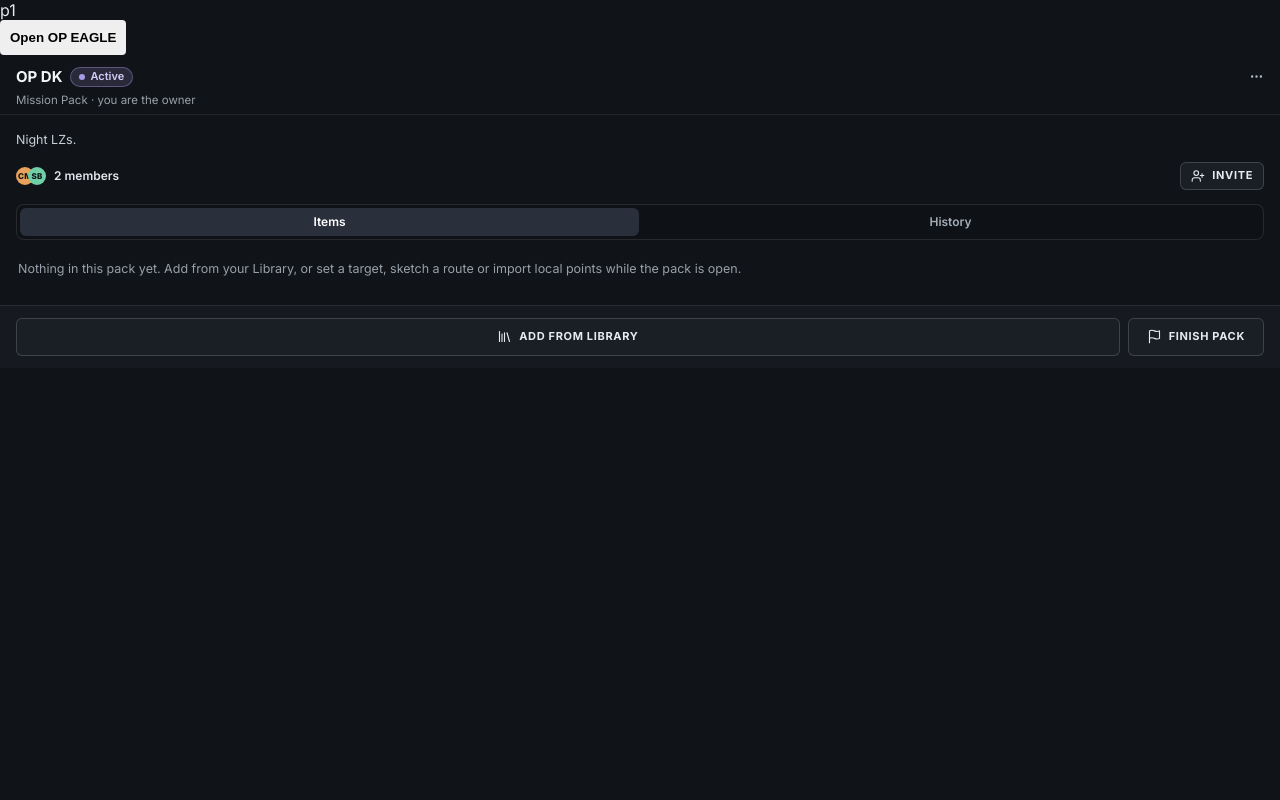
Scenario: leaving the pack › tells the owner to hand it over first, and opens Members to do it
Click the button named "More actions for OP DK" at (1256, 76), box x1=1242 y1=62 x2=1270 y2=90
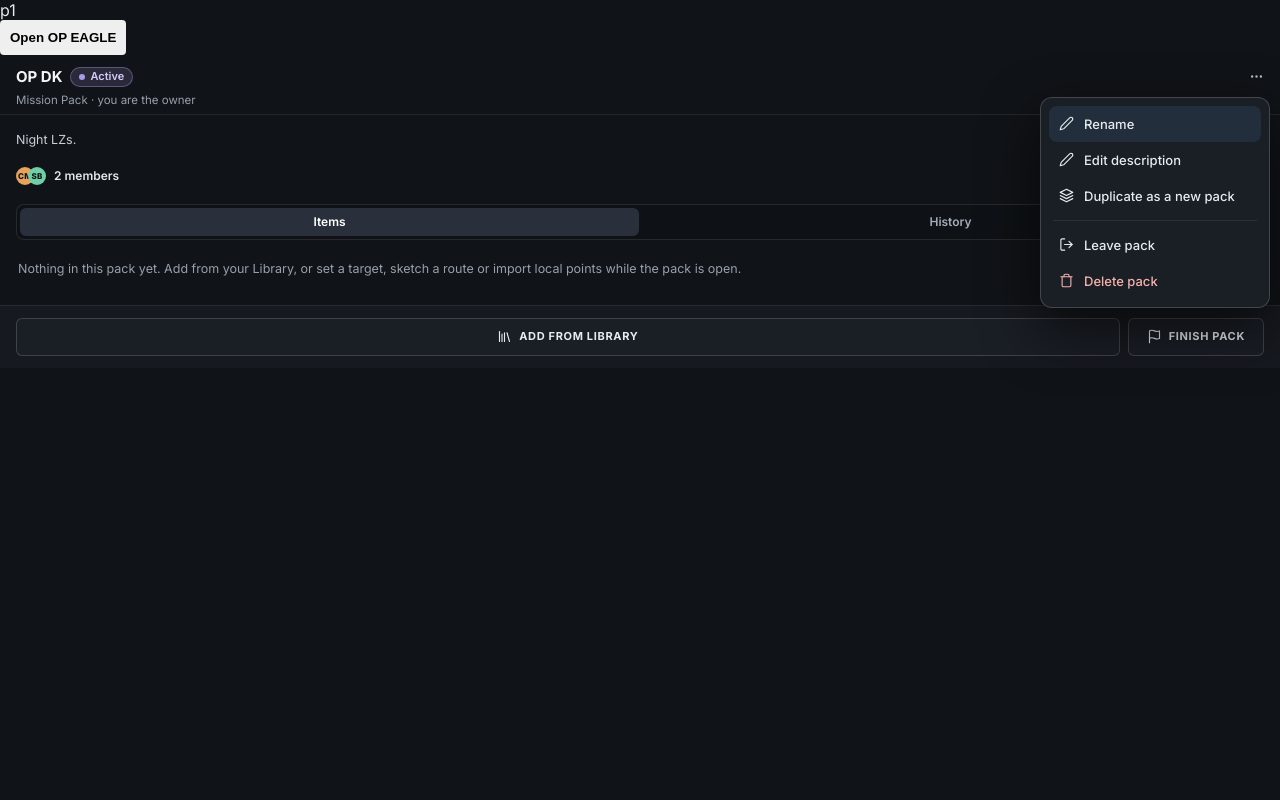
Click the menu item "Leave pack" at (1155, 244), box x1=1049 y1=226 x2=1261 y2=262
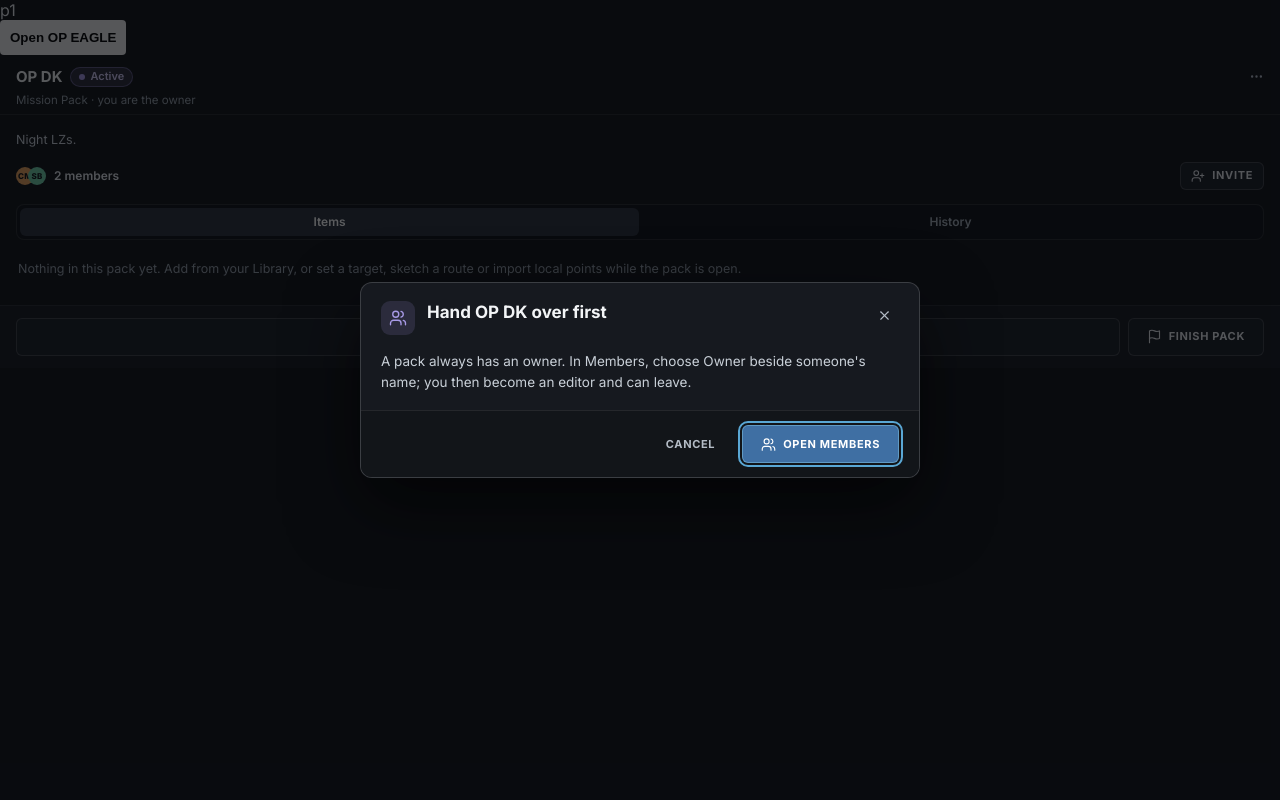
expect the heading "Hand OP DK over first" is shown: met, box x1=427 y1=301 x2=607 y2=323
Click the button "Open Members" at (821, 444), box x1=742 y1=425 x2=899 y2=463
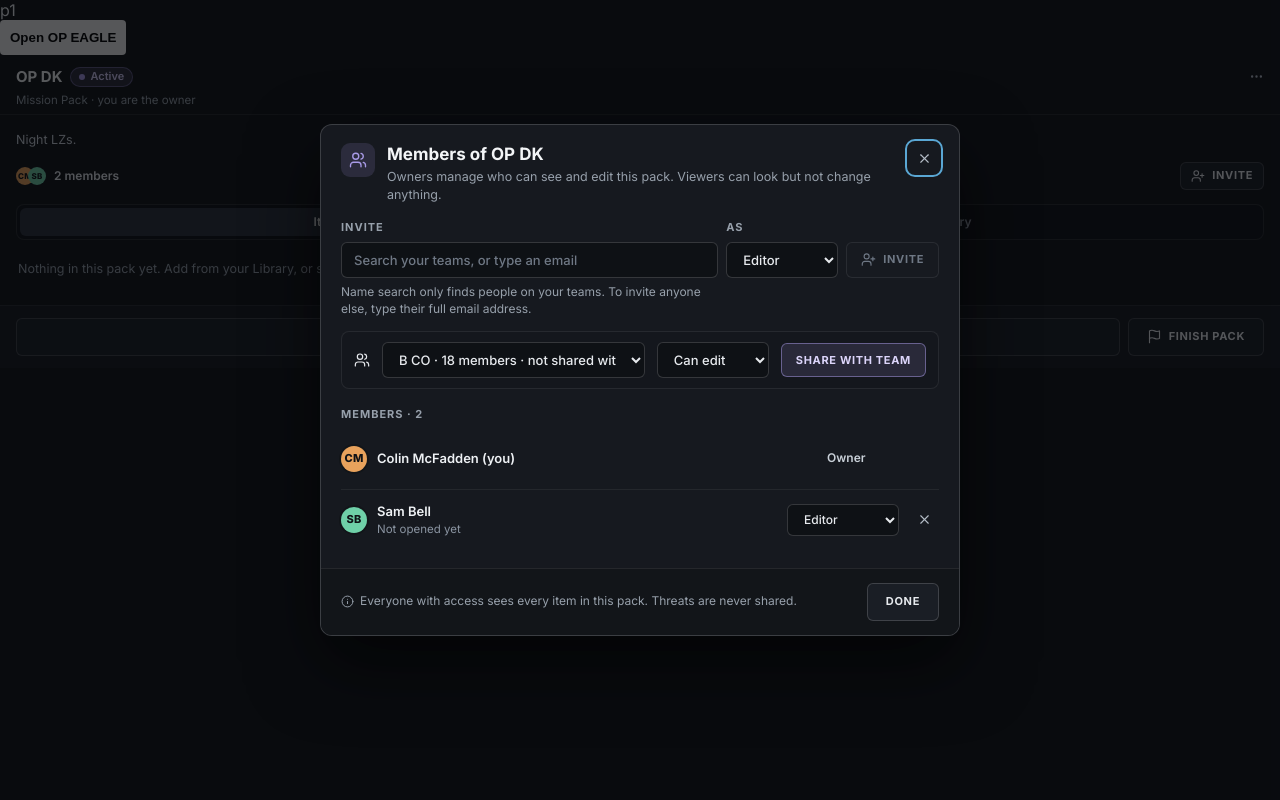
expect the heading "Members of OP DK" is shown: met, box x1=387 y1=144 x2=544 y2=164
